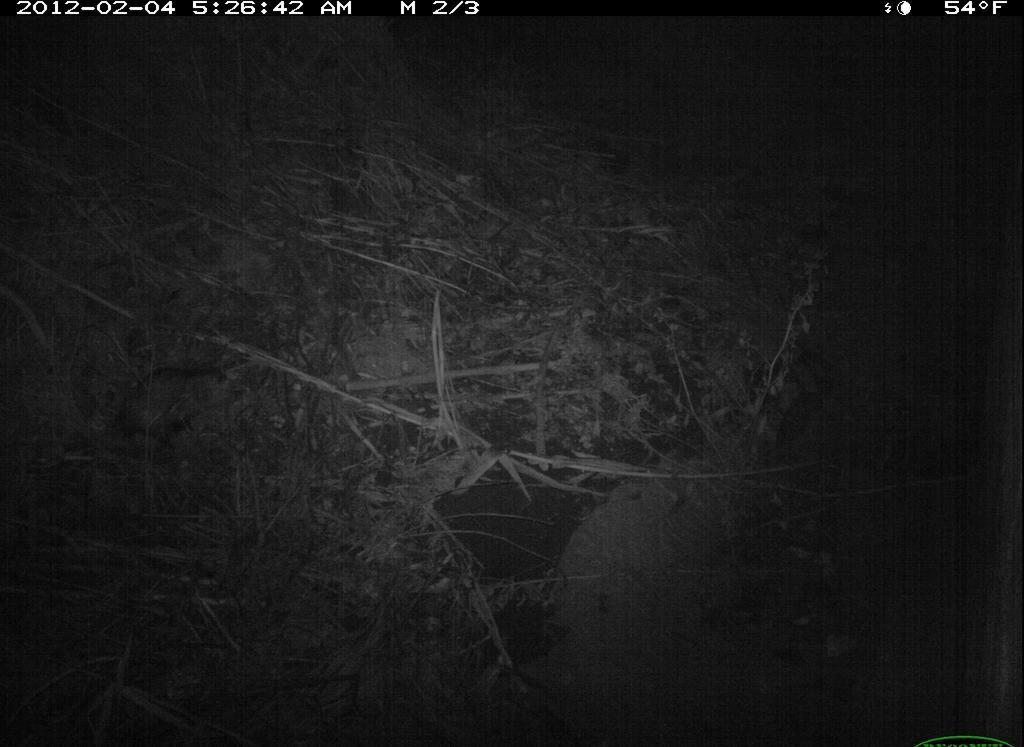opossum: (65, 333, 269, 459)
